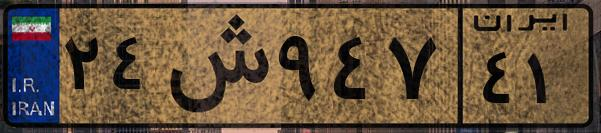1: (525, 38, 570, 115)
2: (57, 26, 110, 100)
4: (330, 28, 385, 110), (475, 38, 525, 113), (110, 28, 158, 98)
7: (385, 28, 445, 110)
9: (270, 28, 330, 110)
ش: (158, 12, 270, 120)
